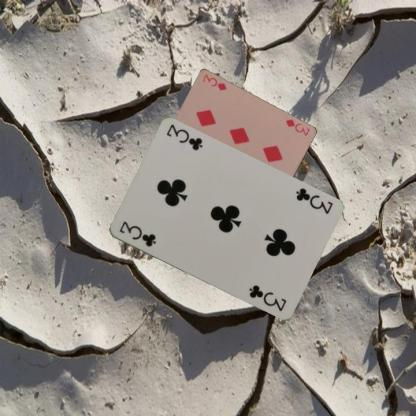3c: (292, 186, 334, 216), (116, 218, 157, 248)
3d: (282, 116, 311, 138)
